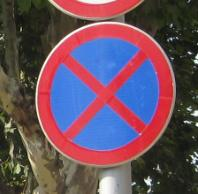No Parking: (32, 24, 179, 170)
